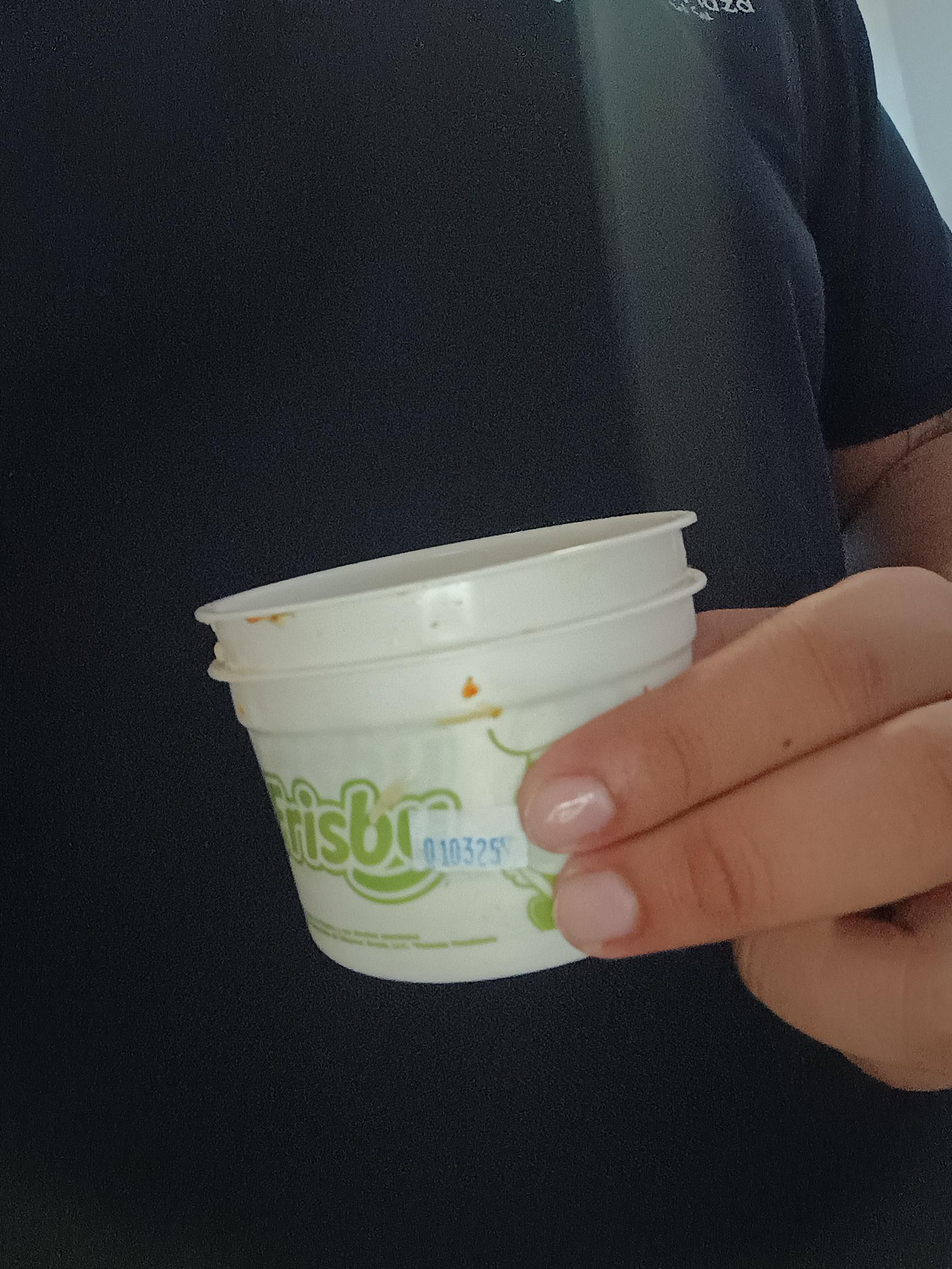Plastico: (197, 511, 706, 984)
